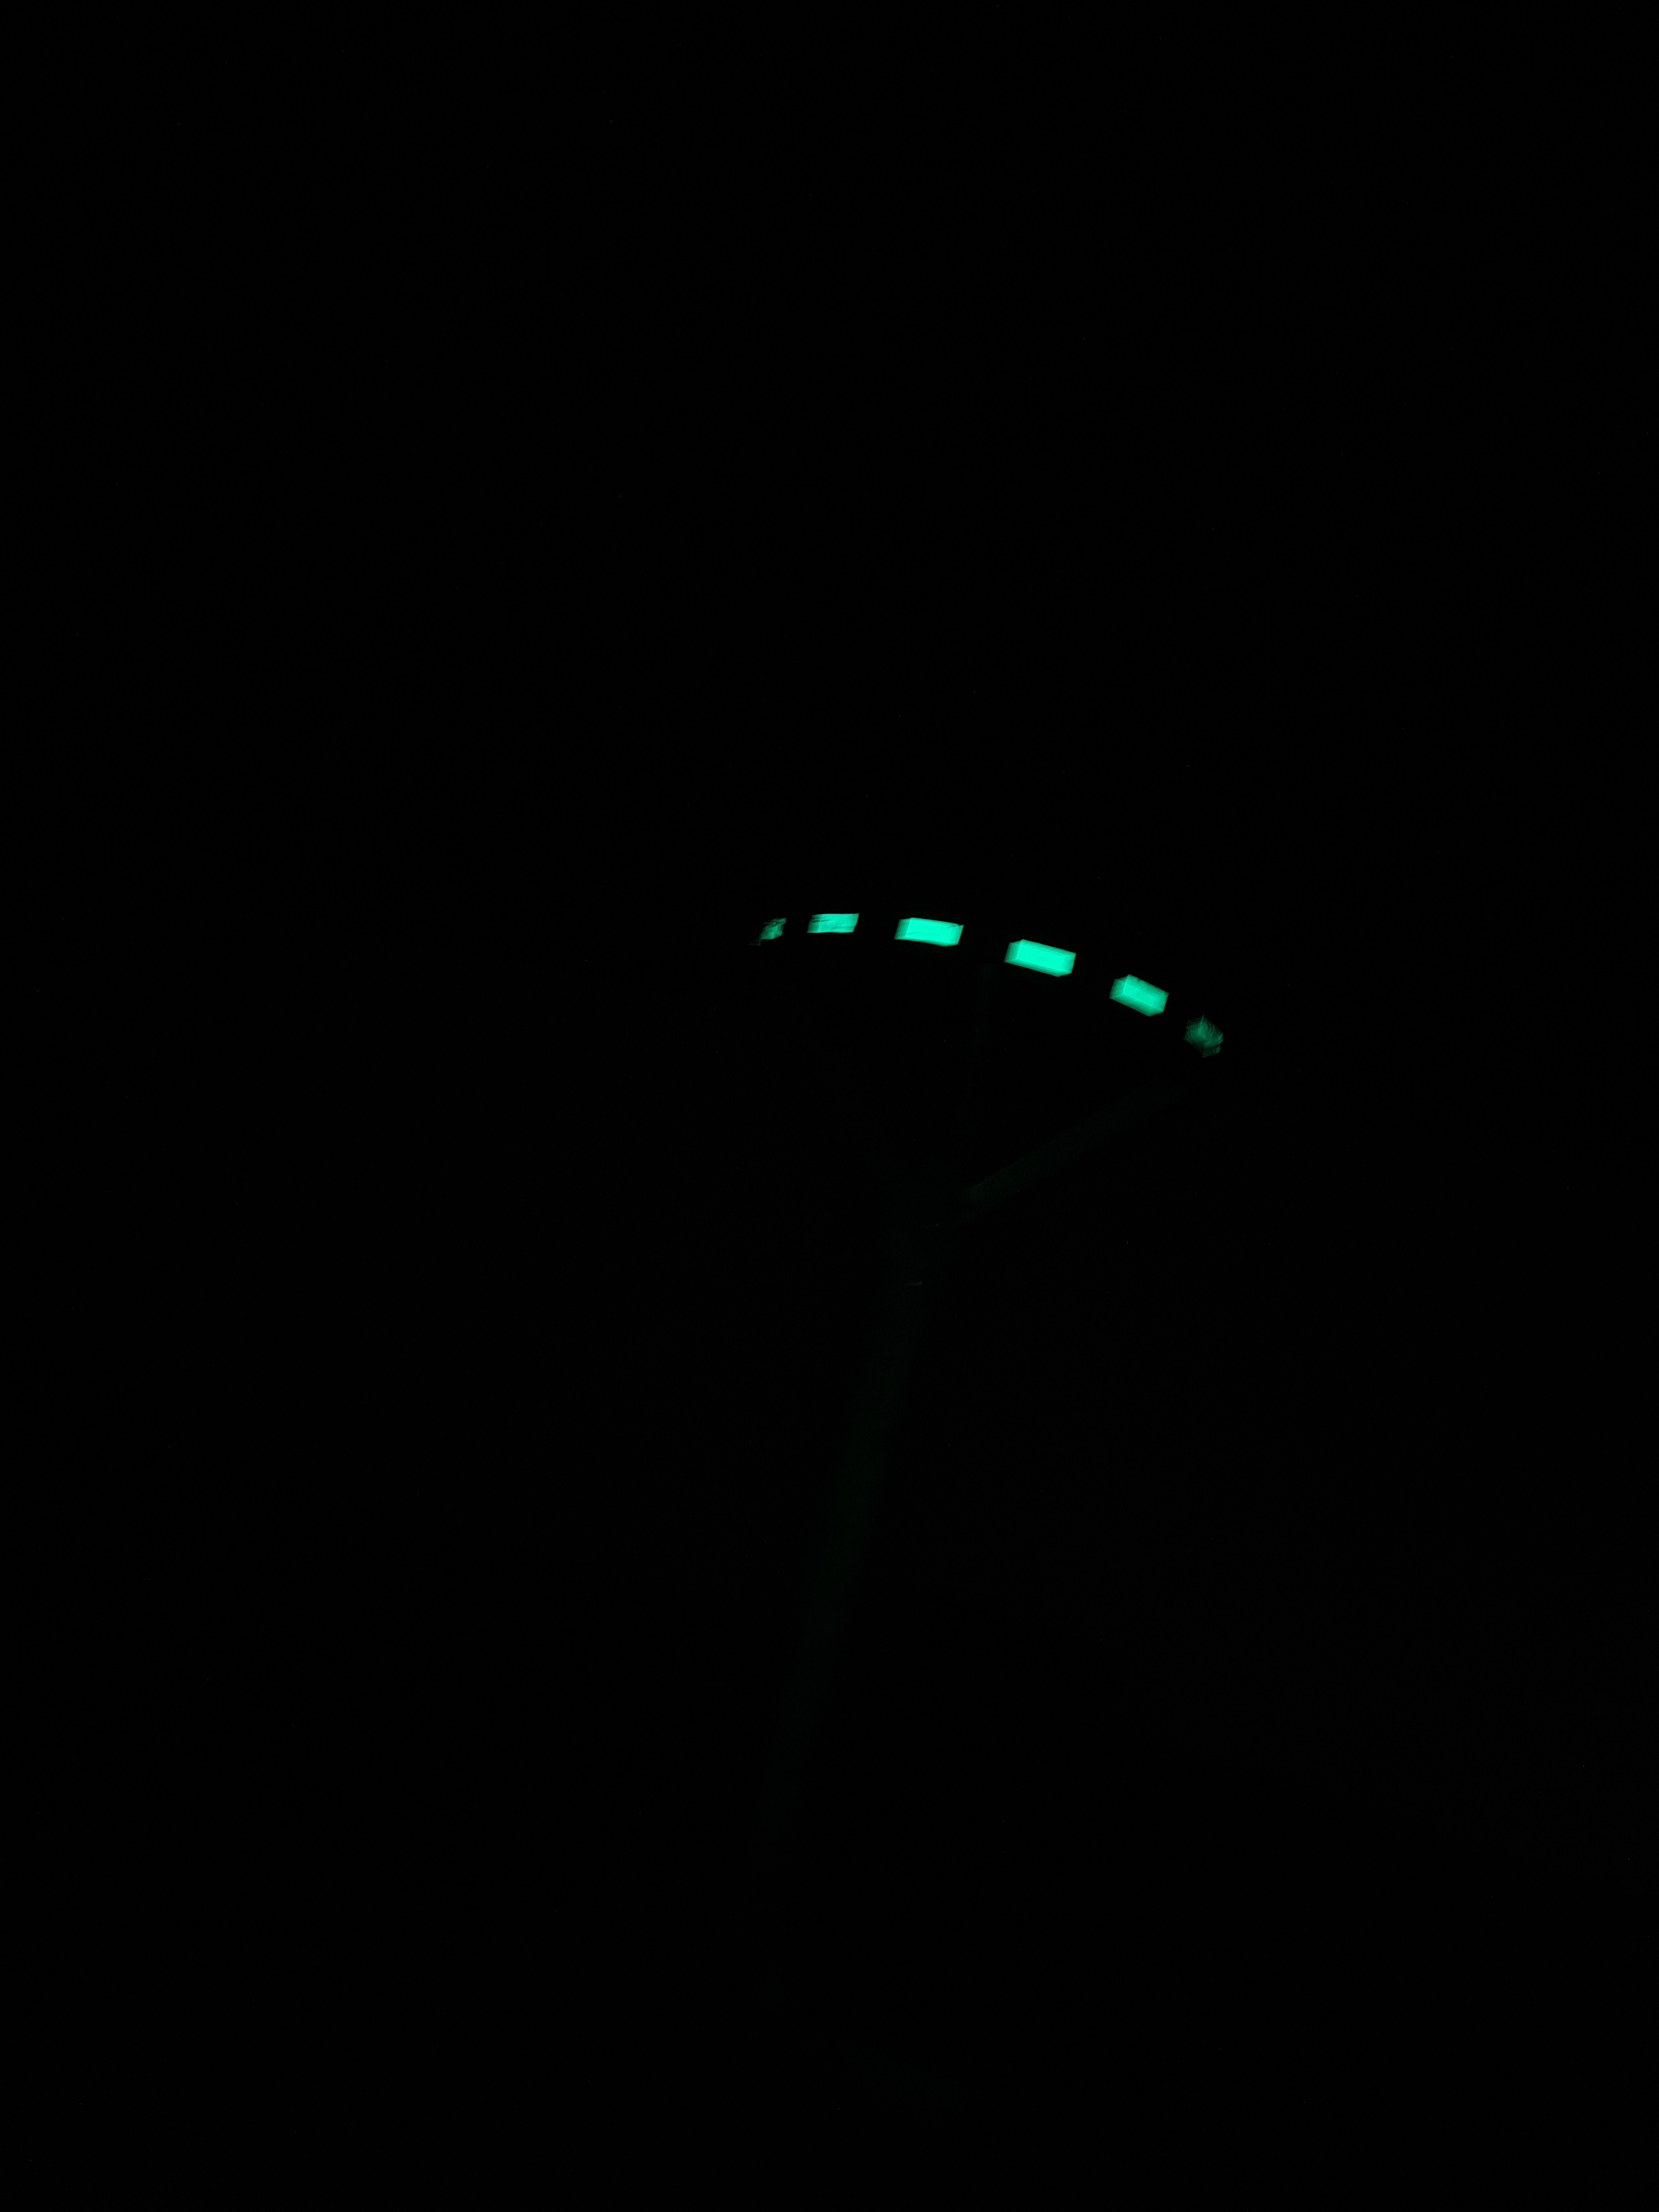hoop: (755, 892, 1232, 1069)
